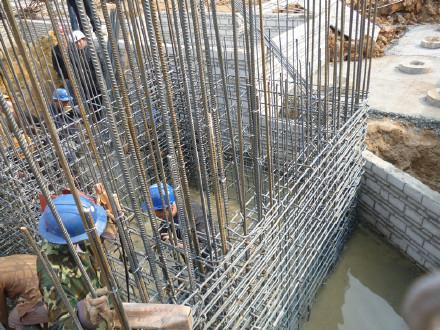helmet: (41, 195, 112, 243), (142, 184, 183, 213), (68, 32, 89, 47), (54, 91, 72, 102)
